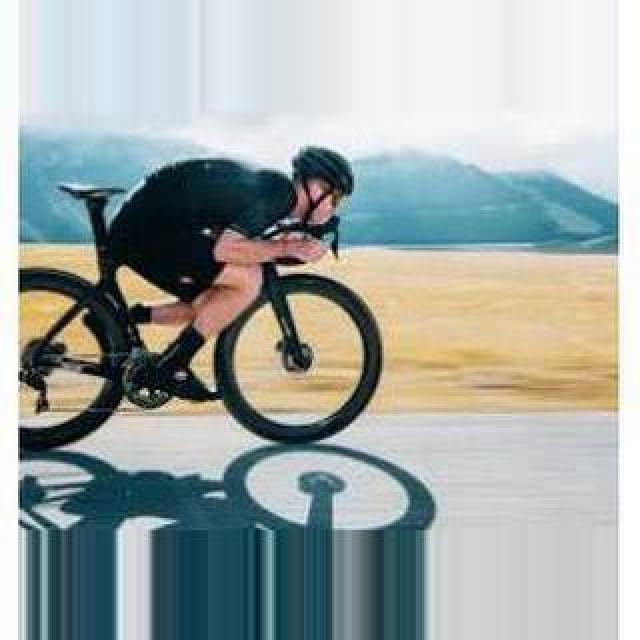MC-Bike: (108, 146, 362, 418)
Person: (12, 184, 380, 454)
